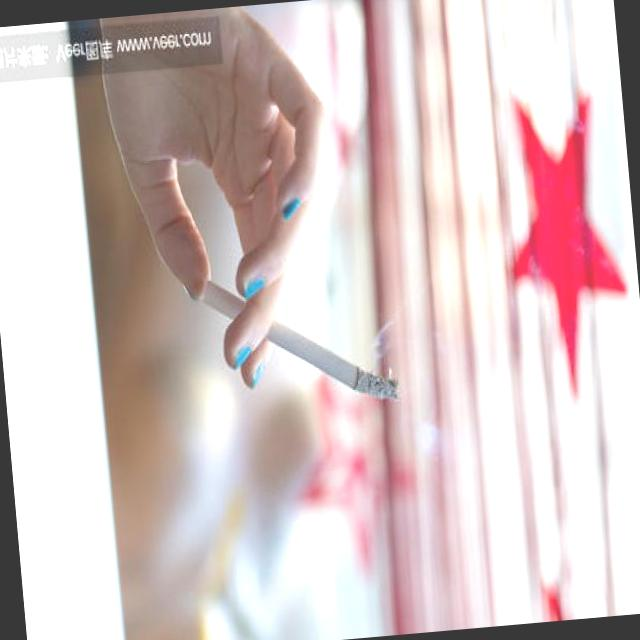cigarette: (175, 262, 415, 429)
